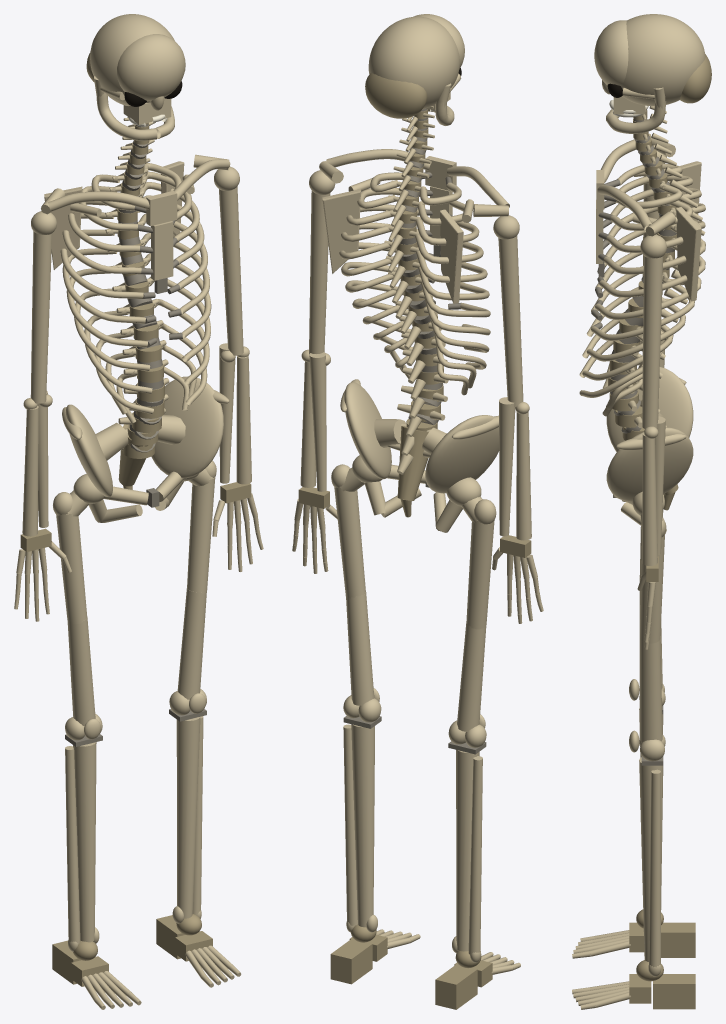
Rendered from esqueleto-humano.obj.
The picture shows the model from 3 angles, left to right: view 1: azimuth 30°, elevation 25°; view 2: azimuth 150°, elevation 25°; view 3: azimuth 270°, elevation 25°; orthographic projection.
Parts seen in each view (by area): view 1: ilion_izq, tibia_izq, tibia_der, frontal, humero_der, boveda_craneal, humero_izq, femur_izq, femur_distal_izq, femur_der, perone_der, femur_distal_der (+34 smaller); view 2: boveda_craneal, tibia_izq, ilion_der, tibia_der, humero_der, humero_izq, ilion_izq, femur_distal_izq, femur_izq, femur_der, femur_distal_der, perone_der (+22 smaller); view 3: boveda_craneal, humero_izq, ilion_izq, femur_distal_izq, perone_izq, ilion_der, tibia_izq, radio_izq, frontal, escapula_izq, calcaneo_izq, femur_izq (+29 smaller).
Boxes of the visible parts, x1,y1,x2,y2 form: ilion_izq: [151, 376, 223, 478]; tibia_izq: [176, 717, 200, 918]; tibia_der: [73, 742, 96, 942]; frontal: [117, 34, 185, 101]; humero_der: [30, 231, 52, 403]; boveda_craneal: [90, 14, 174, 105]; humero_izq: [219, 186, 243, 355]; femur_izq: [187, 477, 215, 593]; femur_distal_izq: [177, 588, 206, 699]; femur_der: [56, 513, 87, 623]; perone_der: [65, 746, 80, 943]; femur_distal_der: [67, 617, 95, 725]; boveda_craneal: [368, 16, 459, 109]; tibia_izq: [351, 724, 374, 927]; ilion_der: [425, 415, 499, 493]; tibia_der: [456, 750, 479, 951]; humero_der: [498, 235, 523, 406]; humero_izq: [309, 191, 330, 354]; ilion_izq: [344, 382, 391, 479]; femur_distal_izq: [346, 592, 374, 705]; femur_izq: [334, 486, 365, 598]; femur_der: [466, 520, 494, 629]; femur_distal_der: [457, 622, 486, 731]; perone_der: [468, 756, 482, 954]; boveda_craneal: [621, 14, 705, 106]; humero_izq: [642, 256, 663, 428]; ilion_izq: [606, 427, 693, 502]; femur_distal_izq: [639, 638, 662, 742]; perone_izq: [649, 769, 660, 967]; ilion_der: [606, 367, 693, 451]; tibia_izq: [639, 757, 663, 961]; radio_izq: [642, 433, 657, 565]; frontal: [594, 20, 628, 85]; escapula_izq: [676, 207, 701, 301]; calcaneo_izq: [653, 974, 695, 1009]; femur_izq: [639, 531, 664, 643].
Size of the model in its own units: 0.4793 by 1.75 by 0.2306.
